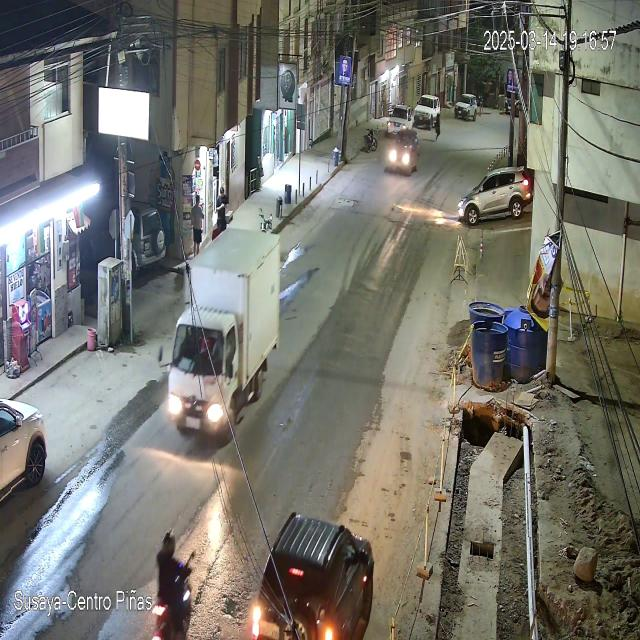SUV: (253, 516, 374, 640)
TRUCK: (169, 227, 281, 449)
